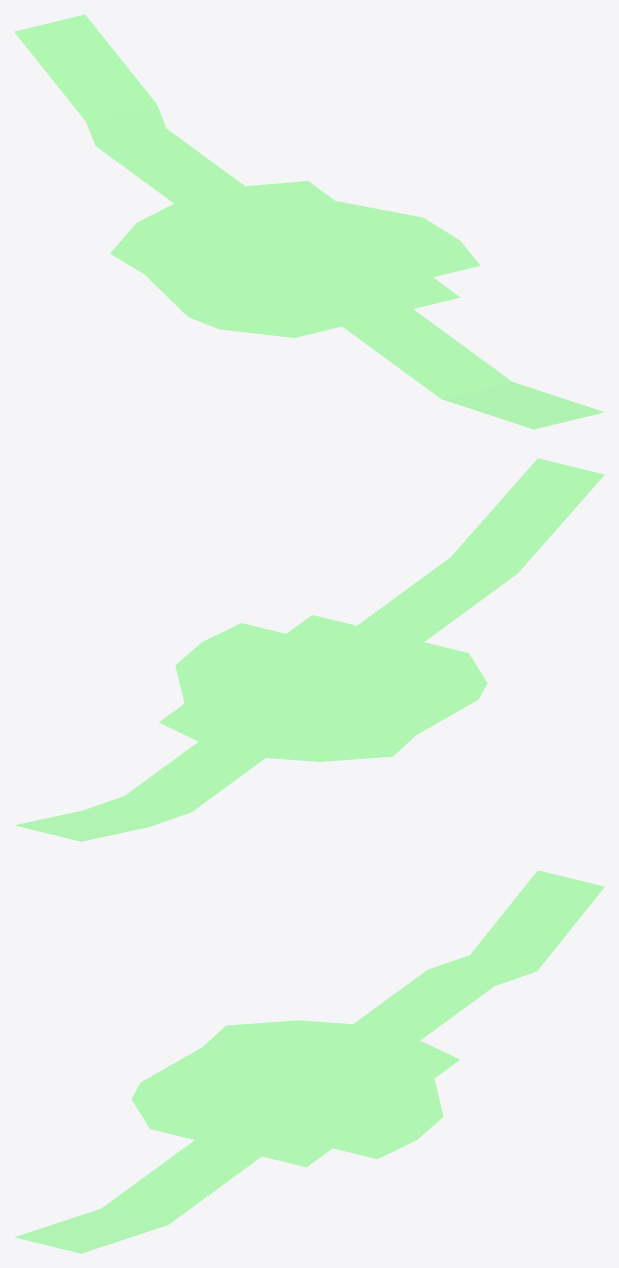
File: s05a_ga1-floor.glb
3 views of the same model, one above another, from view 1: azimuth 30°, elevation 25°; view 2: azimuth 150°, elevation 25°; view 3: azimuth 330°, elevation 25° (orthographic). The views are drawn at different scales.
Parts seen in each view (by area): view 1: collision_floor-colonly; view 2: collision_floor-colonly; view 3: collision_floor-colonly.
Boxes of the visible parts, bbox=[...] form: collision_floor-colonly: bbox=[15, 15, 603, 429]; collision_floor-colonly: bbox=[15, 458, 603, 841]; collision_floor-colonly: bbox=[15, 870, 603, 1253].
Size of the model in its own units: 23.81 by 3 by 78.5.
